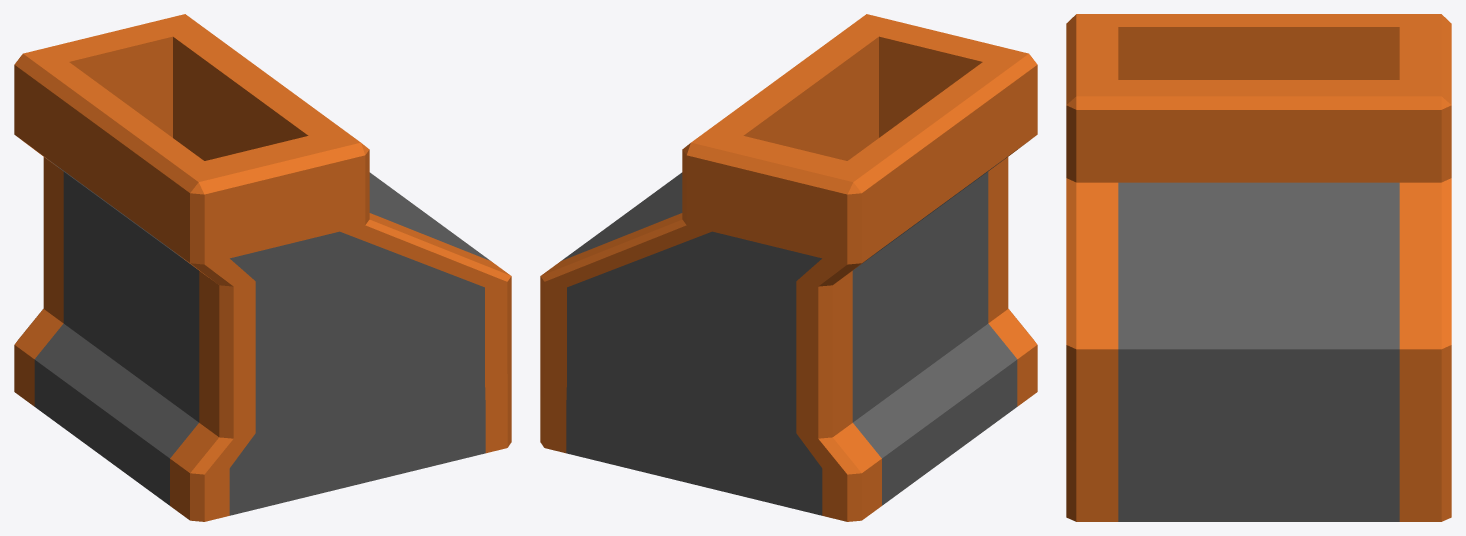
File: crasher.glb
3 renders of one model, left to right at view 1: azimuth 30°, elevation 25°; view 2: azimuth 150°, elevation 25°; view 3: azimuth 270°, elevation 25°, orthographic. The views are drawn at different scales.
Visible parts, largest first — view 1: crasher; view 2: crasher; view 3: crasher.
Boxes of the visible parts, x1=… form: crasher: x1=14, y1=14, x2=511, y2=521; crasher: x1=540, y1=14, x2=1037, y2=521; crasher: x1=1066, y1=14, x2=1451, y2=521.
Bounding box in the file's own units: 100 × 100 × 100.
